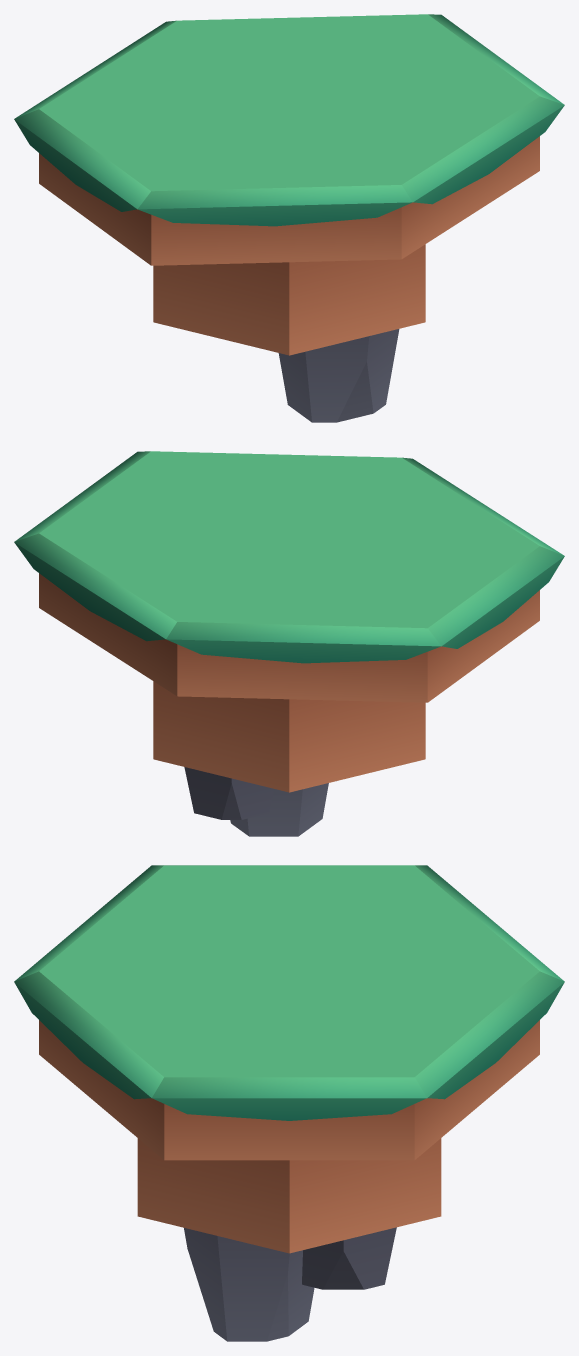
The model's file is island-c.glb.
3 views of the same model, one above another, from view 1: azimuth 30°, elevation 25°; view 2: azimuth 150°, elevation 25°; view 3: azimuth 270°, elevation 25° (orthographic). The views are drawn at different scales.
Parts seen in each view (by area): view 1: island-c; view 2: island-c; view 3: island-c.
Part boxes in pixels (x1,y1,x2,y2): island-c: (14, 14, 564, 422); island-c: (14, 451, 564, 836); island-c: (14, 865, 564, 1341).
Size of the model in its own units: 12 by 8 by 12.
Materials: 1 (1 with a texture image).
